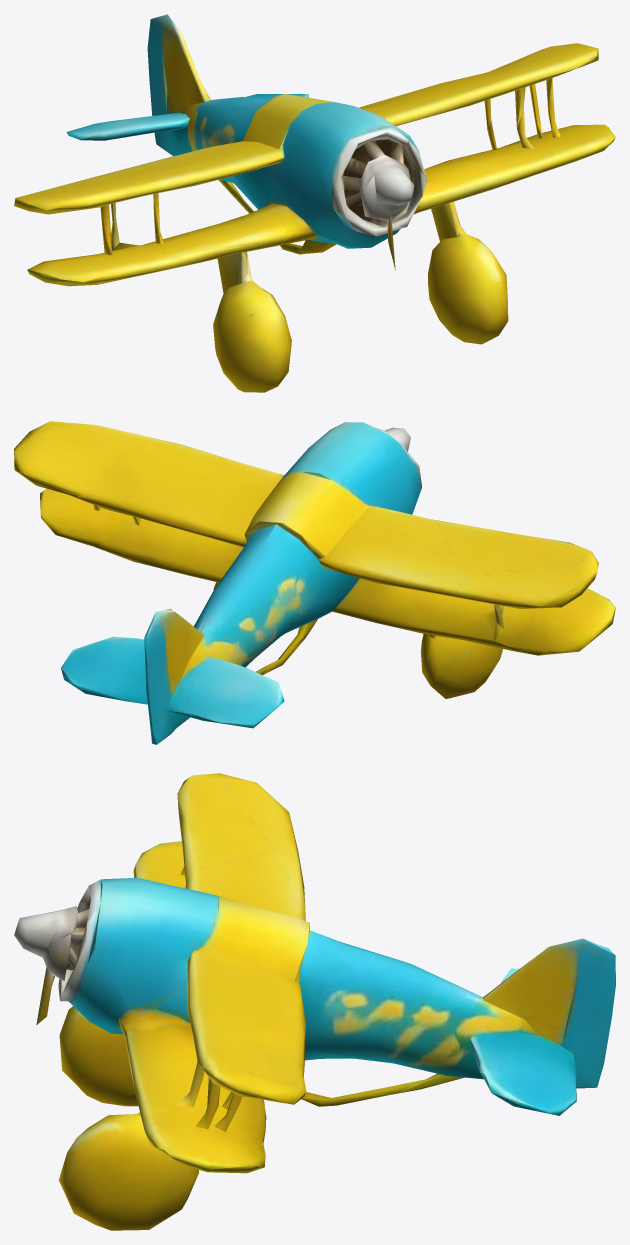
The model's file is toyAirplane.glb.
3 renders of one model, top to bottom at view 1: azimuth 30°, elevation 25°; view 2: azimuth 150°, elevation 25°; view 3: azimuth 270°, elevation 25°, orthographic. The views are drawn at different scales.
Visible parts, largest first — view 1: model; view 2: model; view 3: model.
Boxes of the visible parts, x1,y1,x2,y2 form: model: (14,14,615,392); model: (14,421,615,744); model: (14,773,615,1230).
Size of the model in its own units: 1.89 by 0.7735 by 1.48.
Materials: 1 (1 with a texture image).
